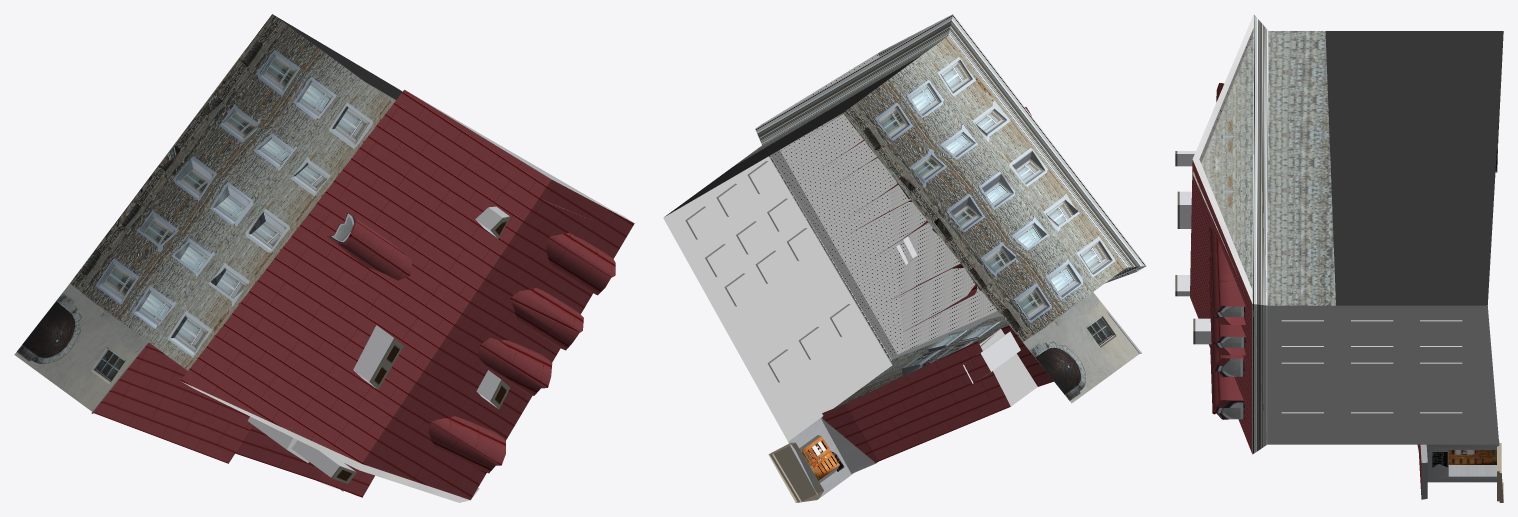
Rendered from Laboratooriumi_16-origo.obj.
The picture shows the model from 3 angles, left to right: view 1: azimuth 30°, elevation 25°; view 2: azimuth 150°, elevation 25°; view 3: azimuth 270°, elevation 25°; orthographic projection. The views are drawn at different scales.
Visible parts, largest first — view 1: Laboratooriumi_16; view 2: Laboratooriumi_16; view 3: Laboratooriumi_16.
Boxes of the visible parts, x1=… form: Laboratooriumi_16: x1=14, y1=14, x2=634, y2=502; Laboratooriumi_16: x1=663, y1=14, x2=1146, y2=502; Laboratooriumi_16: x1=1175, y1=14, x2=1503, y2=502.
Bounding box in the file's own units: 27.38 × 25.5 × 16.34.
